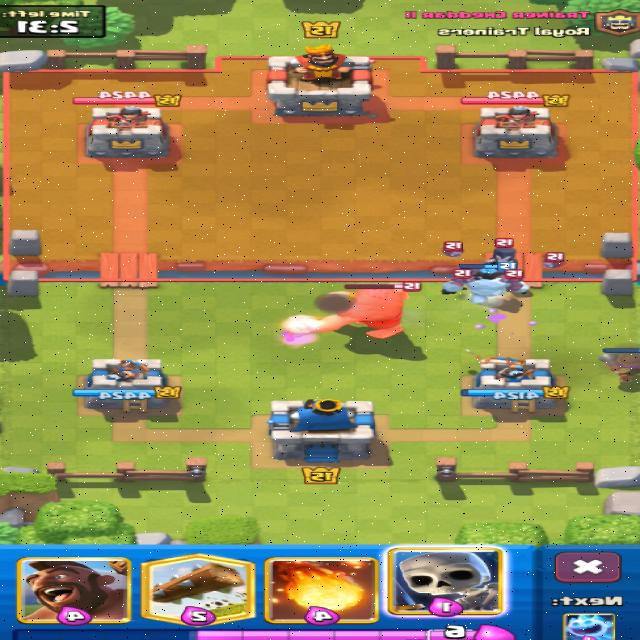Enemy-Bat: (501, 270, 530, 293), (452, 269, 471, 284), (445, 242, 463, 257), (546, 253, 565, 267)
Enemy-Giant: (285, 286, 408, 338)
Enemy-KingTower: (268, 45, 374, 115)
Enemy-NightWitch: (475, 105, 556, 158), (492, 248, 515, 262)
Enemy-PrincessTower: (475, 105, 557, 156), (88, 107, 169, 158)
Player-IceGolem: (443, 269, 527, 304)
Player-KingTower: (269, 398, 375, 462)
Player-Musketeer: (601, 352, 640, 383)
Player-PrincessTower: (463, 357, 563, 411), (75, 360, 167, 411)
